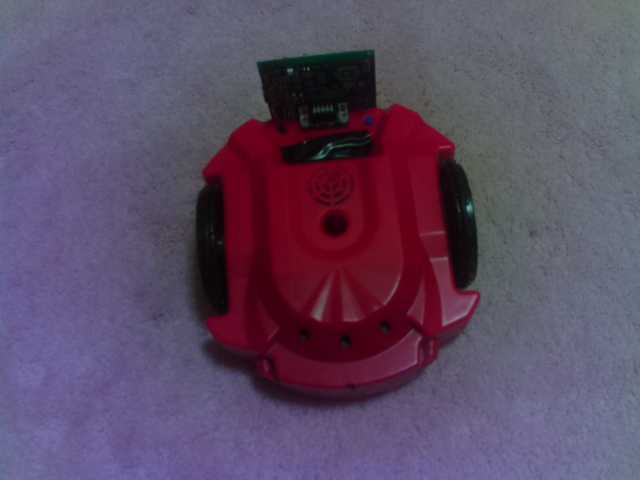chassis: (186, 44, 491, 405)
